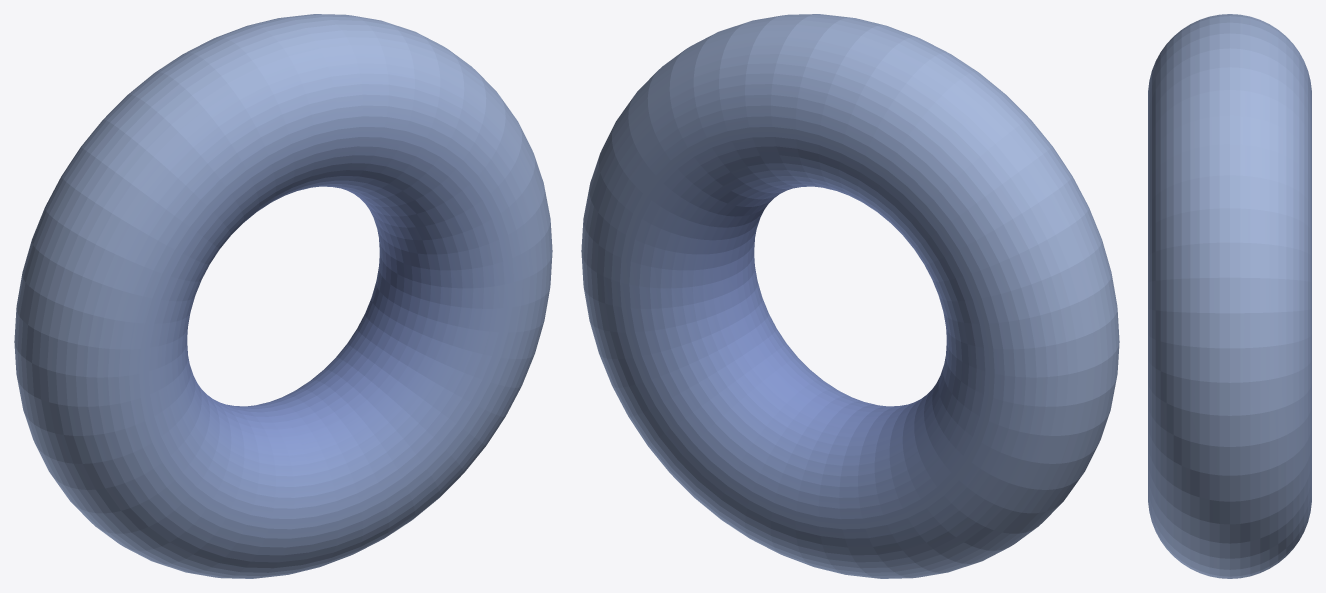
3 renders of one model, left to right at view 1: azimuth 30°, elevation 25°; view 2: azimuth 150°, elevation 25°; view 3: azimuth 270°, elevation 25°, orthographic. The views are drawn at different scales.
Visible parts, largest first — view 1: world; view 2: world; view 3: world.
Boxes of the visible parts, <box> form: world: <box>14,14,552,578</box>; world: <box>581,14,1119,578</box>; world: <box>1148,14,1311,578</box>.
Bounding box in the file's own units: 19.73 × 19.69 × 5.72.
